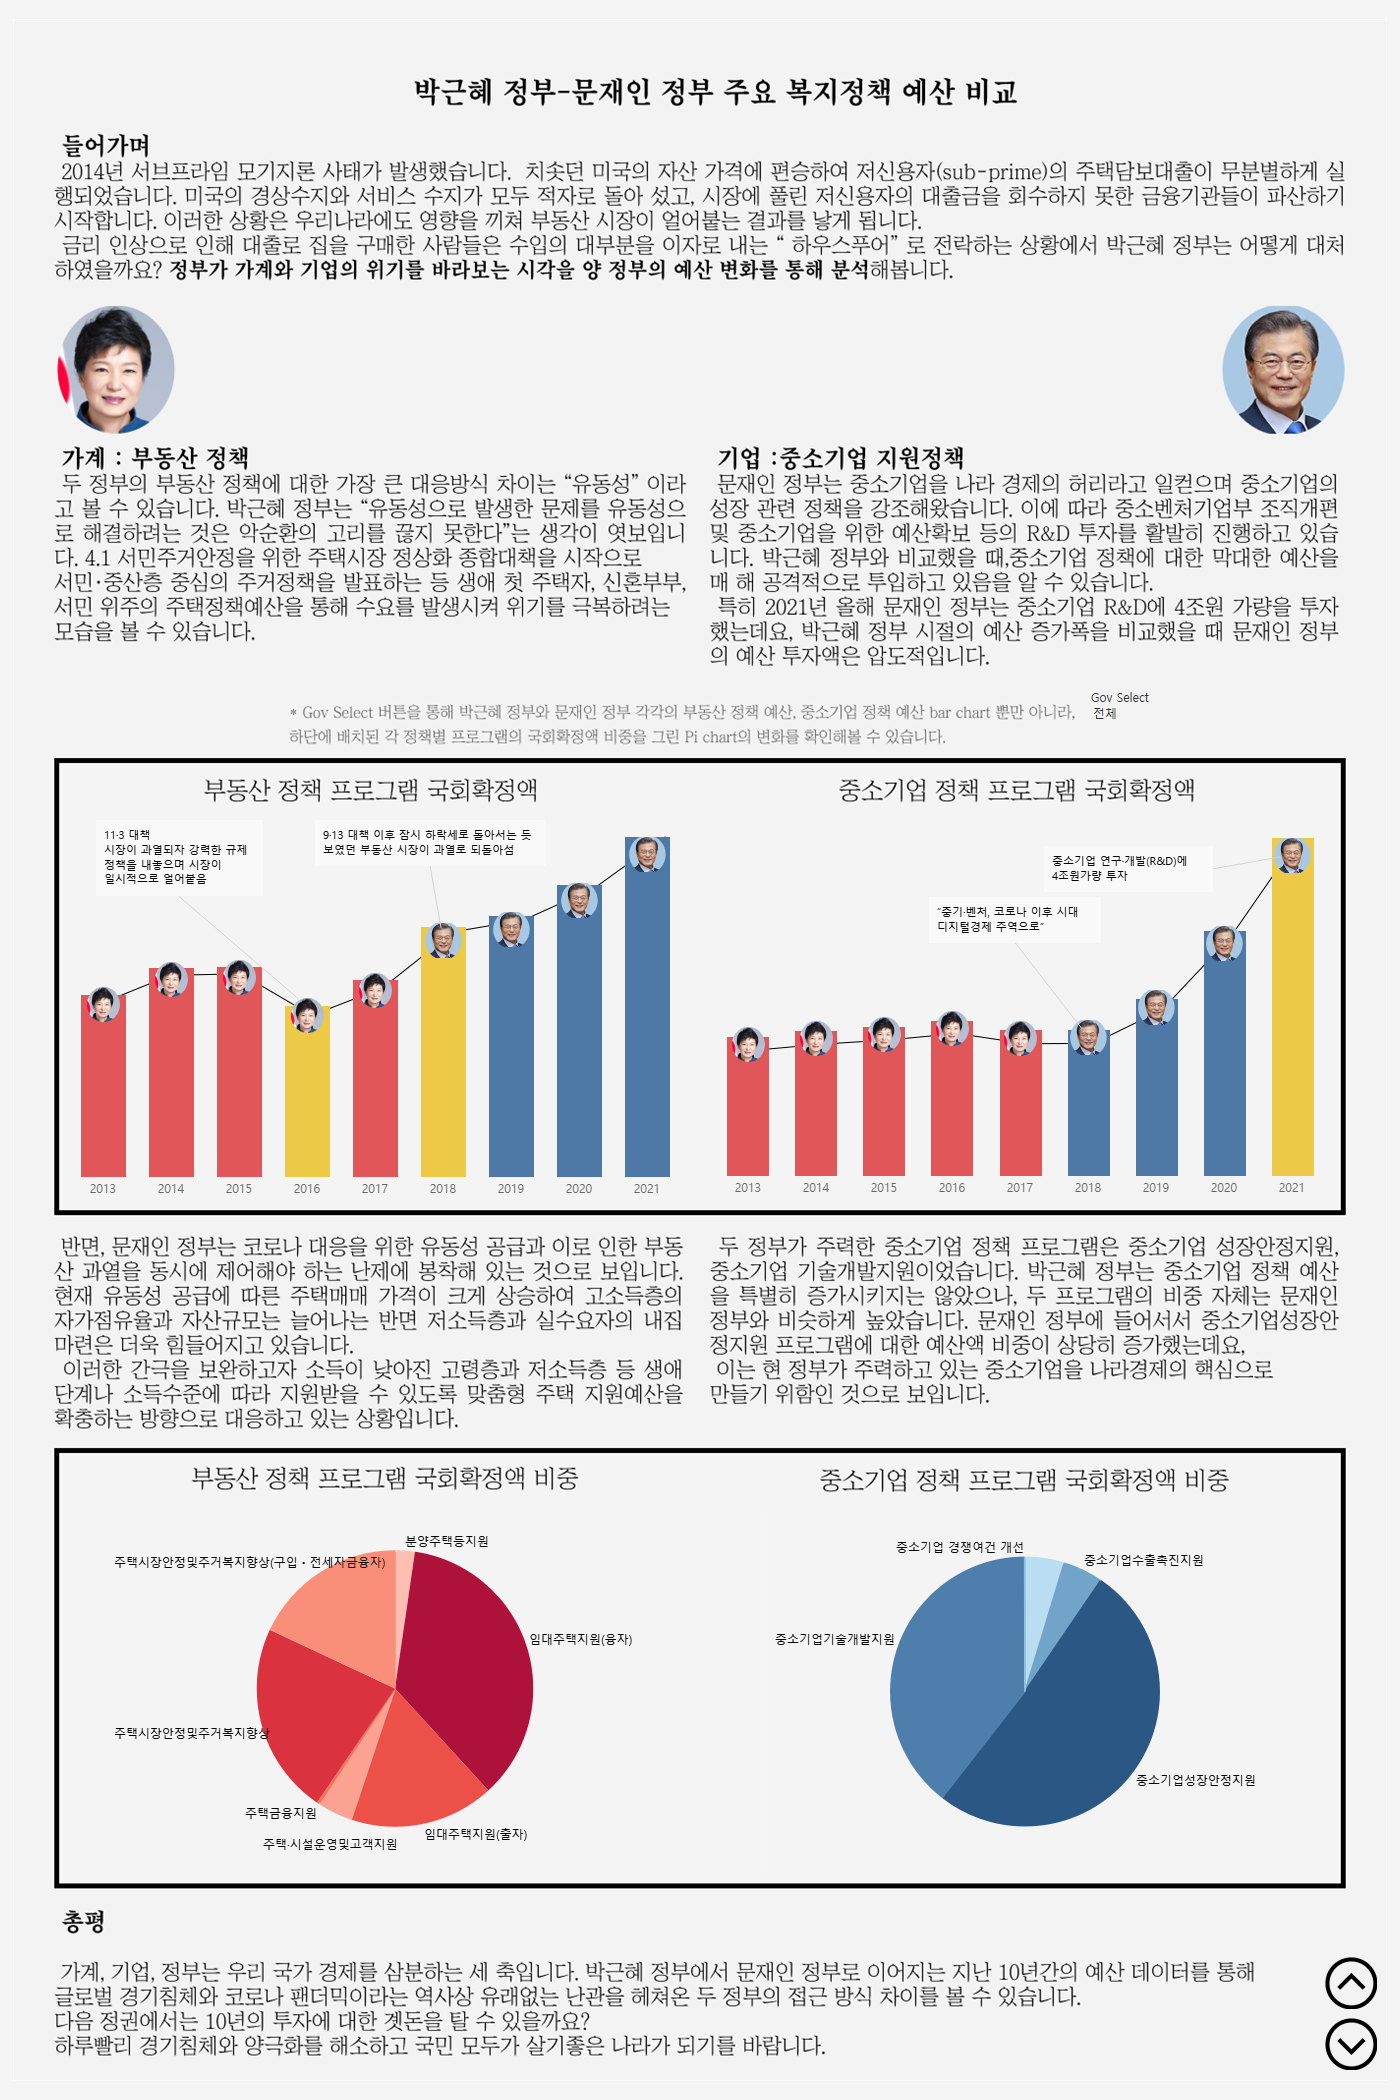

What the dashboard file says about the page in this screenshot:
{"tool":"tableau","page":{"name":"2. 본론3","canvas":[1400,2100],"ordinal":5},"visuals":[{"type":"image","param":"Image/본론3_최종.png","box":[8,8,1384,2084]},{"type":"filter","title":"박근혜&문재인_주택","param":"[federated.0xbmnj91efjfc017om2ri1kmlzm4].[none:Calculation_1722345397018296323:n","box":[1091,688,256,86]},{"type":"worksheet","title":"주택_라인","mark":"Line","rows":["Y_YY_DFN_MEDI_KCUR_AMT"],"cols":["FSCL_YY"],"box":[64,818,636,377]},{"type":"worksheet","title":"박근혜&문재인_주택","mark":"Bar","rows":["Y_YY_DFN_MEDI_KCUR_AMT","Y_YY_DFN_MEDI_KCUR_AMT"],"cols":["FSCL_YY"],"box":[69,820,613,377]},{"type":"worksheet","title":"중소기업_라인","mark":"Line","rows":["Y_YY_DFN_MEDI_KCUR_AMT"],"cols":["FSCL_YY"],"box":[718,820,614,378]},{"type":"worksheet","title":"박근혜&문재인_중소기업","mark":"Bar","rows":["Y_YY_DFN_MEDI_KCUR_AMT","Y_YY_DFN_MEDI_KCUR_AMT"],"cols":["FSCL_YY"],"box":[714,821,613,375]},{"type":"worksheet","title":"중소기업_프로그램예산_파이","mark":"Pie","cols":["Calculation_1722345397019471878"],"box":[767,1505,516,373]},{"type":"worksheet","title":"주택_프로그램예산_파이","mark":"Pie","cols":["Calculation_1722345397020057611"],"box":[114,1507,562,363]},{"type":"dashboard-object","box":[1313,1957,77,52]},{"type":"dashboard-object","box":[1313,2018,76,52]}]}

Visuals, with their boxes in screenshot pixels (x1, y1, x2, y2), scaled from the page's 1400x2100 canvas onto the 1400x2100 screenshot:
image: [left=8, top=8, right=1392, bottom=2092]
"박근혜&문재인_주택" filter: [left=1091, top=688, right=1347, bottom=774]
"주택_라인" worksheet (Line marks): [left=64, top=818, right=700, bottom=1195]
"박근혜&문재인_주택" worksheet (Bar marks): [left=69, top=820, right=682, bottom=1197]
"중소기업_라인" worksheet (Line marks): [left=718, top=820, right=1332, bottom=1198]
"박근혜&문재인_중소기업" worksheet (Bar marks): [left=714, top=821, right=1327, bottom=1196]
"중소기업_프로그램예산_파이" worksheet (Pie marks): [left=767, top=1505, right=1283, bottom=1878]
"주택_프로그램예산_파이" worksheet (Pie marks): [left=114, top=1507, right=676, bottom=1870]
dashboard-object: [left=1313, top=1957, right=1390, bottom=2009]
dashboard-object: [left=1313, top=2018, right=1389, bottom=2070]
